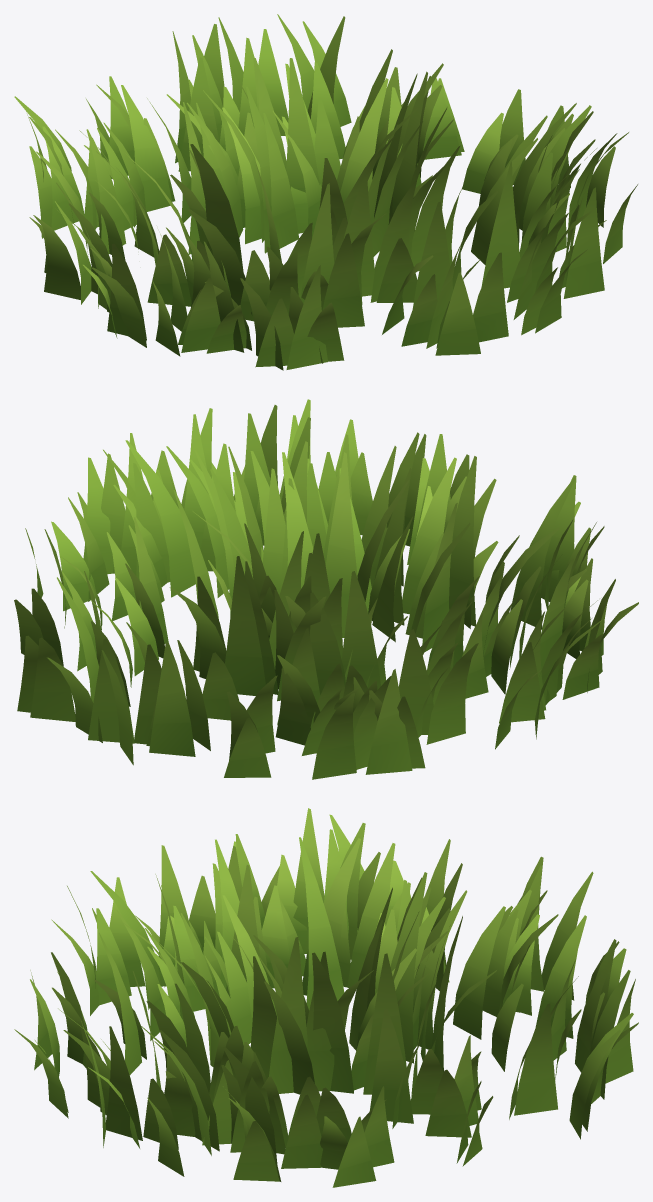
The model's file is PLN_Grass_ShortLush.fbx.
3 views of the same model, one above another, from view 1: azimuth 30°, elevation 25°; view 2: azimuth 150°, elevation 25°; view 3: azimuth 270°, elevation 25° (orthographic). The views are drawn at different scales.
Visible parts, largest first — view 1: PLN_Grass_ShortLush; view 2: PLN_Grass_ShortLush; view 3: PLN_Grass_ShortLush.
Boxes of the visible parts, x1,y1,x2,y2 form: PLN_Grass_ShortLush: (14,14,637,370); PLN_Grass_ShortLush: (14,399,638,779); PLN_Grass_ShortLush: (14,808,638,1187).
Bounding box in the file's own units: 0.4799 × 0.1418 × 0.4691.
